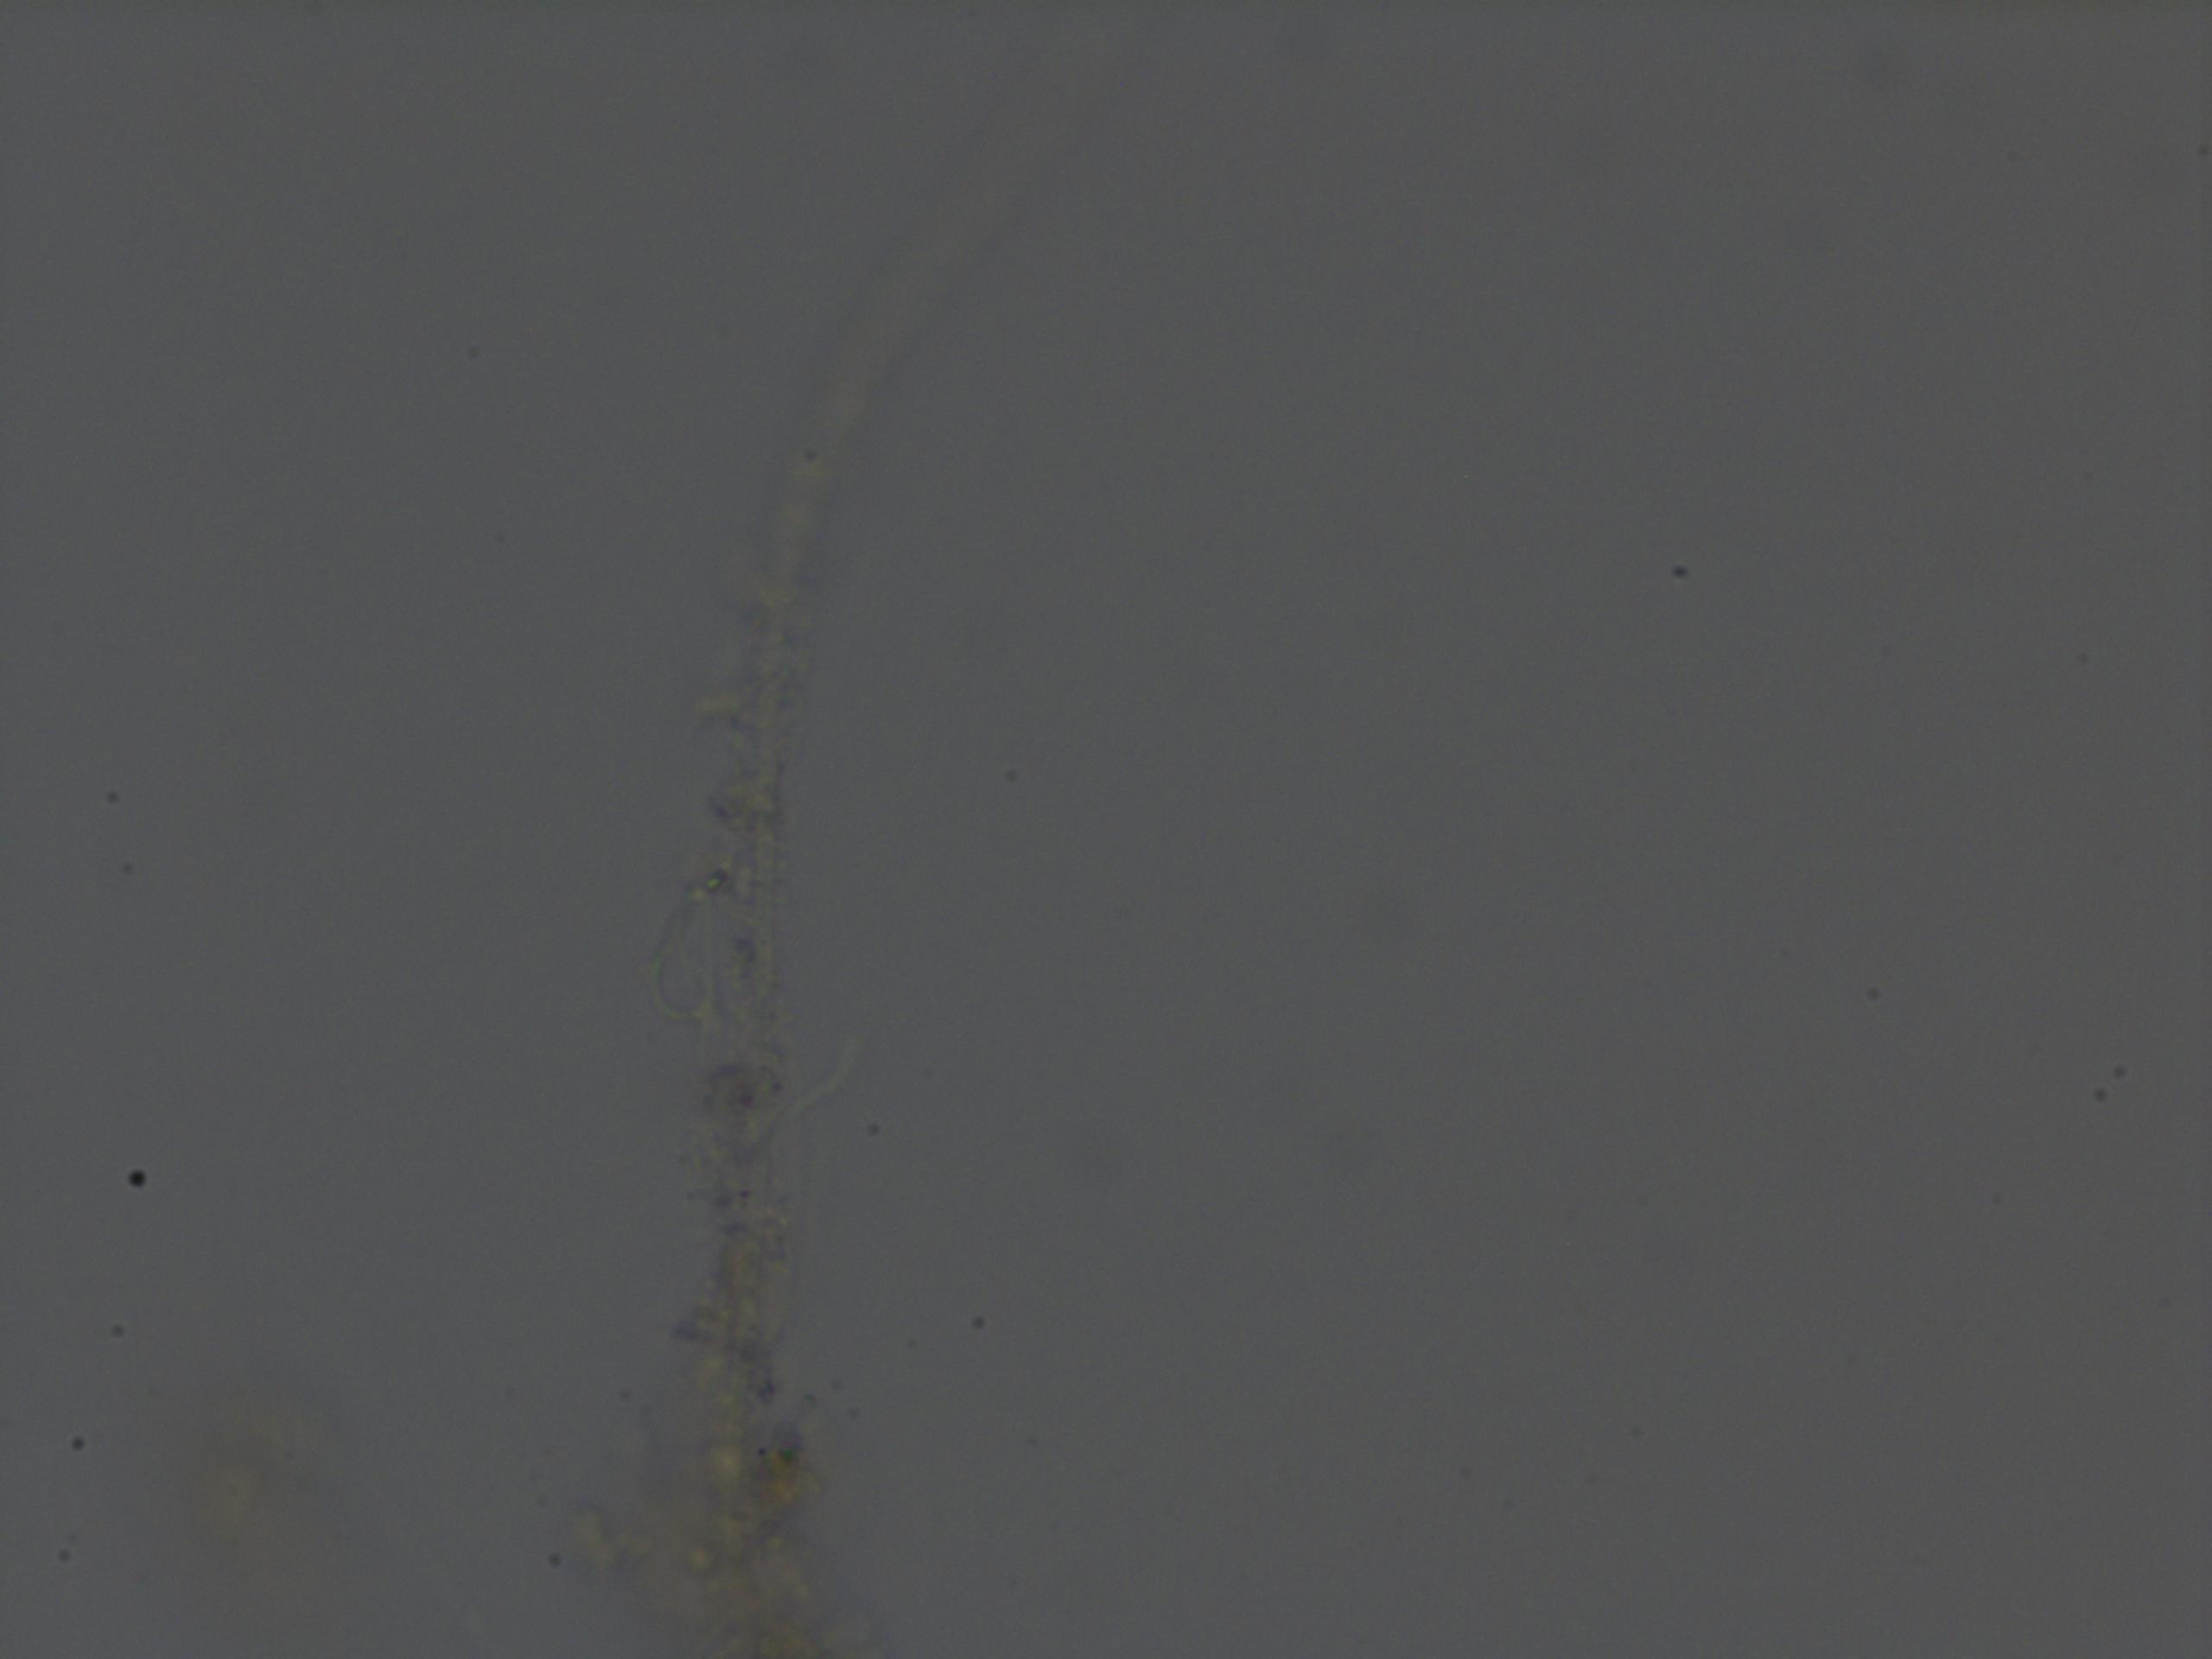filament: (641, 0, 1111, 1642)
